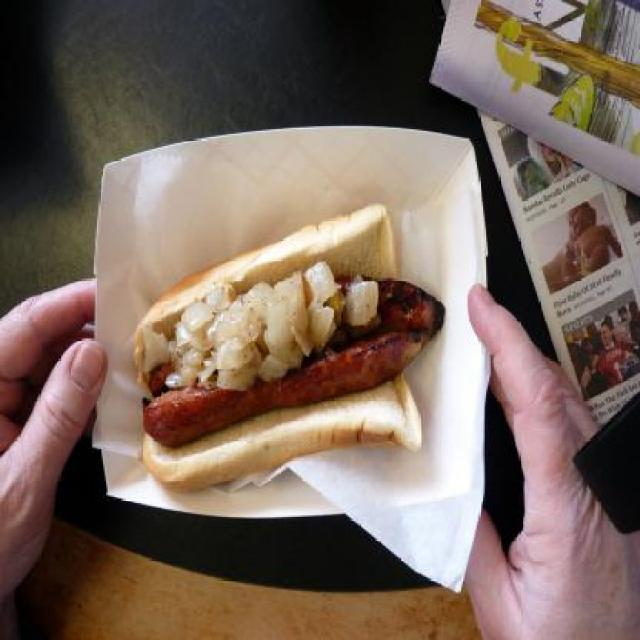Hot dog: (130, 196, 448, 498)
